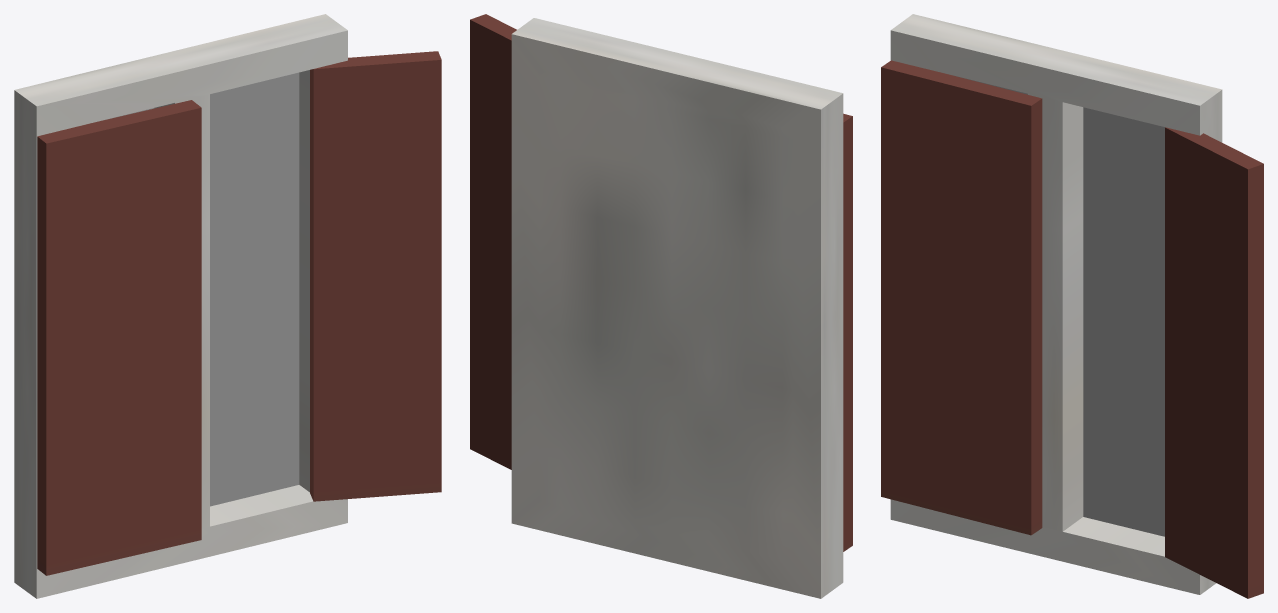
File: obj_window_r2.fbx
The picture shows the model from 3 angles, left to right: view 1: azimuth 30°, elevation 25°; view 2: azimuth 150°, elevation 25°; view 3: azimuth 330°, elevation 25°; orthographic projection.
Parts seen in each view (by area): view 1: obj_window_r2; view 2: obj_window_r2; view 3: obj_window_r2.
Part boxes in pixels (<box>): obj_window_r2: <box>14,14,441,598</box>; obj_window_r2: <box>470,14,852,598</box>; obj_window_r2: <box>881,14,1263,598</box>.
Size of the model in its own units: 1.25 by 1.51 by 0.251.
2 materials, 1 textured.
